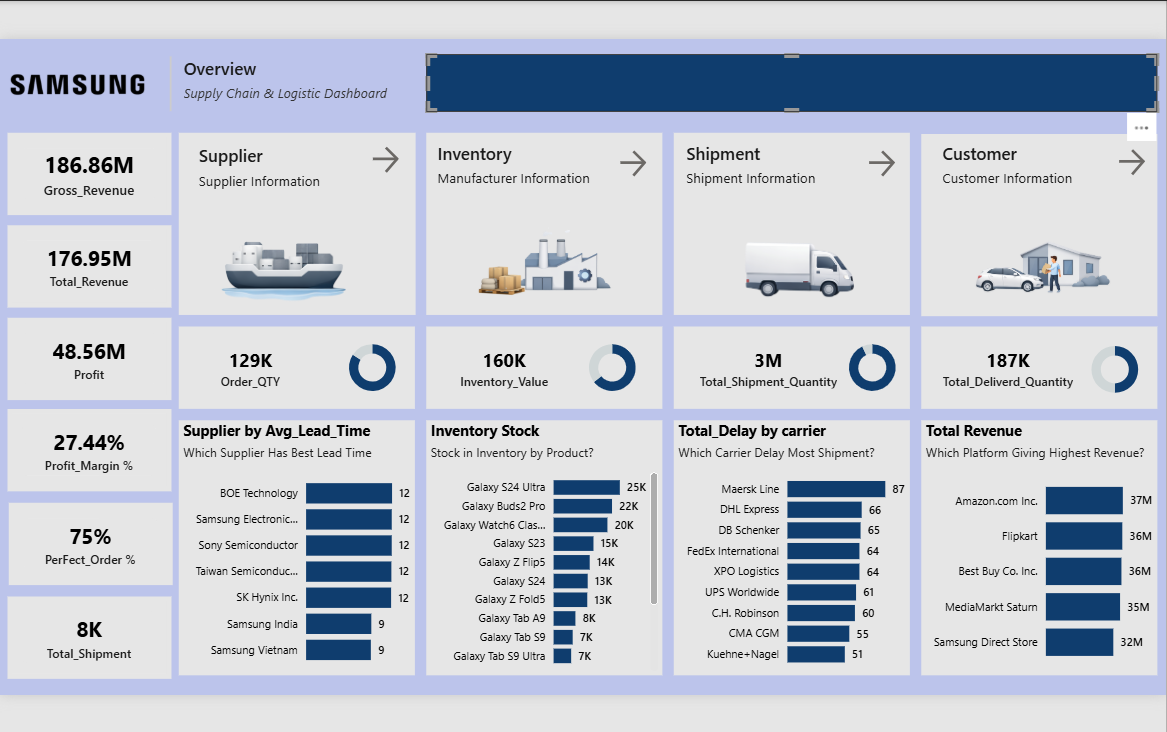

Layout of this report page (visuals, bound fields, positions):
{"tool":"powerbi","page":{"name":"Overview","canvas":[1280,720],"ordinal":1},"visuals":[{"type":"shape","box":[196,103.3,260,200],"z":0},{"type":"shape","box":[467.9,102.9,259.3,200.3],"z":1000},{"type":"shape","box":[739.6,102.9,259.3,200.3],"z":2000},{"type":"shape","box":[1011.3,104.3,259.3,200.3],"z":3000},{"type":"image","box":[223.7,203.1,168.8,87.8],"z":4000},{"type":"image","box":[509.1,188,167.4,107],"z":5000},{"type":"image","box":[791.5,204.9,168,87],"z":6000},{"type":"image","box":[1064.8,196.2,167.4,104.3],"z":7000},{"type":"actionButton","box":[403.4,112.5,38.4,39.8],"z":8000},{"type":"actionButton","box":[675.1,116.6,38.4,39.8],"z":9000},{"type":"actionButton","box":[948.2,116.6,38.4,39.8],"z":10000},{"type":"actionButton","box":[1222.6,115.3,38.4,39.8],"z":11000},{"type":"shape","title":"Supplier","box":[218.2,115.3,179.8,60.4],"z":12000},{"type":"shape","title":"Inventory","box":[480.3,112.5,179.8,60.4],"z":13000},{"type":"shape","title":"Shipment","box":[753.3,112.5,179.8,60.4],"z":14000},{"type":"shape","title":"Customer","box":[1034.7,112.5,179.8,60.4],"z":15000},{"type":"shape","title":"Overview","box":[201.7,18.8,278.6,60.4],"z":16000},{"type":"shape","box":[172.9,18.8,28.8,60.4],"z":17000},{"type":"image","box":[0,18.8,163.3,60.4],"z":18000},{"type":"cardVisual","fields":{"Data":["Measures Table.Total_Revenue"]},"box":[8.2,204.5,179.8,90],"z":19000},{"type":"cardVisual","fields":{"Data":["Measures Table.Profit"]},"box":[8.2,306,179.8,90.6],"z":20000},{"type":"cardVisual","fields":{"Data":["Measures Table.Profit_Margin %"]},"box":[8.2,406.2,179.8,90.6],"z":21000},{"type":"cardVisual","fields":{"Data":["Measures Table.PerFect_Order %"]},"box":[9.6,509.1,179.8,90.6],"z":22000},{"type":"cardVisual","fields":{"Data":["Measures Table.Total_Shipment"]},"box":[8.2,612,179.8,90],"z":23000},{"type":"cardVisual","fields":{"Data":["Sum(fact_sales.gross_revenue)"]},"box":[8.2,102.9,179.8,90],"z":24000},{"type":"shape","box":[196.2,315.6,259.3,90.6],"z":25000},{"type":"shape","box":[467.9,315.6,259.3,90.6],"z":26000},{"type":"shape","box":[739.6,315.6,259.3,90.6],"z":27000},{"type":"shape","box":[1011.3,315.6,259.3,90.6],"z":28000},{"type":"cardVisual","fields":{"Data":["Measures Table.Order_QTY"]},"box":[194.9,315.9,160.5,90.6],"z":29000},{"type":"cardVisual","fields":{"Data":["Measures Table.Inventory_Value"]},"box":[467.9,315.9,171.5,90.6],"z":30000},{"type":"cardVisual","fields":{"Data":["Measures Table.Total_Shipment_Quantity"]},"box":[730,315.9,227.8,90.6],"z":31000},{"type":"cardVisual","fields":{"Data":["Measures Table.Total_Deliverd_Quantity"]},"box":[999,315.6,215.4,90.6],"z":32000},{"type":"clusteredBarChart","title":"Supplier by Avg_Lead_Time","fields":{"Category":["dim_supplier.supplier_name"],"Y":["Measures Table.Avg_Lead_Time"]},"box":[196.2,418.5,259.3,279.9],"z":33000},{"type":"clusteredBarChart","title":"Inventory Stock","fields":{"Category":["dim_product.product_name"],"Y":["Measures Table.Inventory_Value"]},"box":[467.9,418.5,259.3,279.9],"z":34000},{"type":"clusteredBarChart","fields":{"Category":["fact_shipment.carrier"],"Y":["Measures Table.Total_Delay"]},"box":[739.6,418.5,259.3,279.9],"z":35000},{"type":"clusteredBarChart","title":"Total Revenue","fields":{"Category":["dim_customer.customer_name"],"Y":["Measures Table.Total_Revenue"]},"box":[1011.3,418.5,259.3,279.9],"z":36000},{"type":"donutChart","fields":{"Y":["Measures Table.Inventory_Value","Measures Table.Safety_Stock"]},"box":[635.3,315.9,74,90.6],"z":37000},{"type":"donutChart","fields":{"Y":["Measures Table.Total_Shipment","Measures Table.Total_Delay"]},"box":[920.8,315.9,74.1,90.6],"z":38000},{"type":"donutChart","fields":{"Y":["Measures Table.Total_Deliverd_Quantity","Measures Table.Total_QTY_Delay"]},"box":[1187,319.7,74.1,86.4],"z":39000},{"type":"donutChart","fields":{"Y":["Measures Table.Order_QTY","Measures Table.Defect_Rate"]},"box":[371.9,315.9,74.1,90.6],"z":40000}]}

Visuals, with their boxes on the page's 1280x720 design canvas (x1, y1, x2, y2). These are canvas units, not pixel positions in the 1167x732 screenshot, which may show the page scaled, cropped or inside an application window:
shape: 196,103,456,303
shape: 468,103,727,303
shape: 740,103,999,303
shape: 1011,104,1271,305
image: 224,203,392,291
image: 509,188,676,295
image: 792,205,960,292
image: 1065,196,1232,300
actionButton: 403,112,442,152
actionButton: 675,117,714,156
actionButton: 948,117,987,156
actionButton: 1223,115,1261,155
"Supplier" shape: 218,115,398,176
"Inventory" shape: 480,112,660,173
"Shipment" shape: 753,112,933,173
"Customer" shape: 1035,112,1214,173
"Overview" shape: 202,19,480,79
shape: 173,19,202,79
image: 0,19,163,79
cardVisual - Measures Table.Total_Revenue: 8,204,188,294
cardVisual - Measures Table.Profit: 8,306,188,397
cardVisual - Measures Table.Profit_Margin %: 8,406,188,497
cardVisual - Measures Table.PerFect_Order %: 10,509,189,600
cardVisual - Measures Table.Total_Shipment: 8,612,188,702
cardVisual - Sum(fact_sales.gross_revenue): 8,103,188,193
shape: 196,316,456,406
shape: 468,316,727,406
shape: 740,316,999,406
shape: 1011,316,1271,406
cardVisual - Measures Table.Order_QTY: 195,316,355,406
cardVisual - Measures Table.Inventory_Value: 468,316,639,406
cardVisual - Measures Table.Total_Shipment_Quantity: 730,316,958,406
cardVisual - Measures Table.Total_Deliverd_Quantity: 999,316,1214,406
"Supplier by Avg_Lead_Time" clusteredBarChart: 196,418,456,698
"Inventory Stock" clusteredBarChart: 468,418,727,698
clusteredBarChart - fact_shipment.carrier x Measures Table.Total_Delay: 740,418,999,698
"Total Revenue" clusteredBarChart: 1011,418,1271,698
donutChart - Measures Table.Inventory_Value x Measures Table.Safety_Stock: 635,316,709,406
donutChart - Measures Table.Total_Shipment x Measures Table.Total_Delay: 921,316,995,406
donutChart - Measures Table.Total_Deliverd_Quantity x Measures Table.Total_QTY_Delay: 1187,320,1261,406
donutChart - Measures Table.Order_QTY x Measures Table.Defect_Rate: 372,316,446,406
